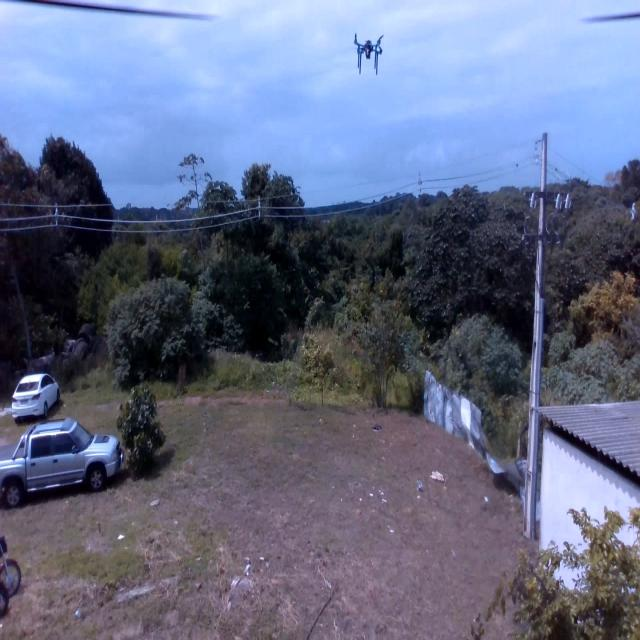-uav-: (348, 25, 388, 82)
